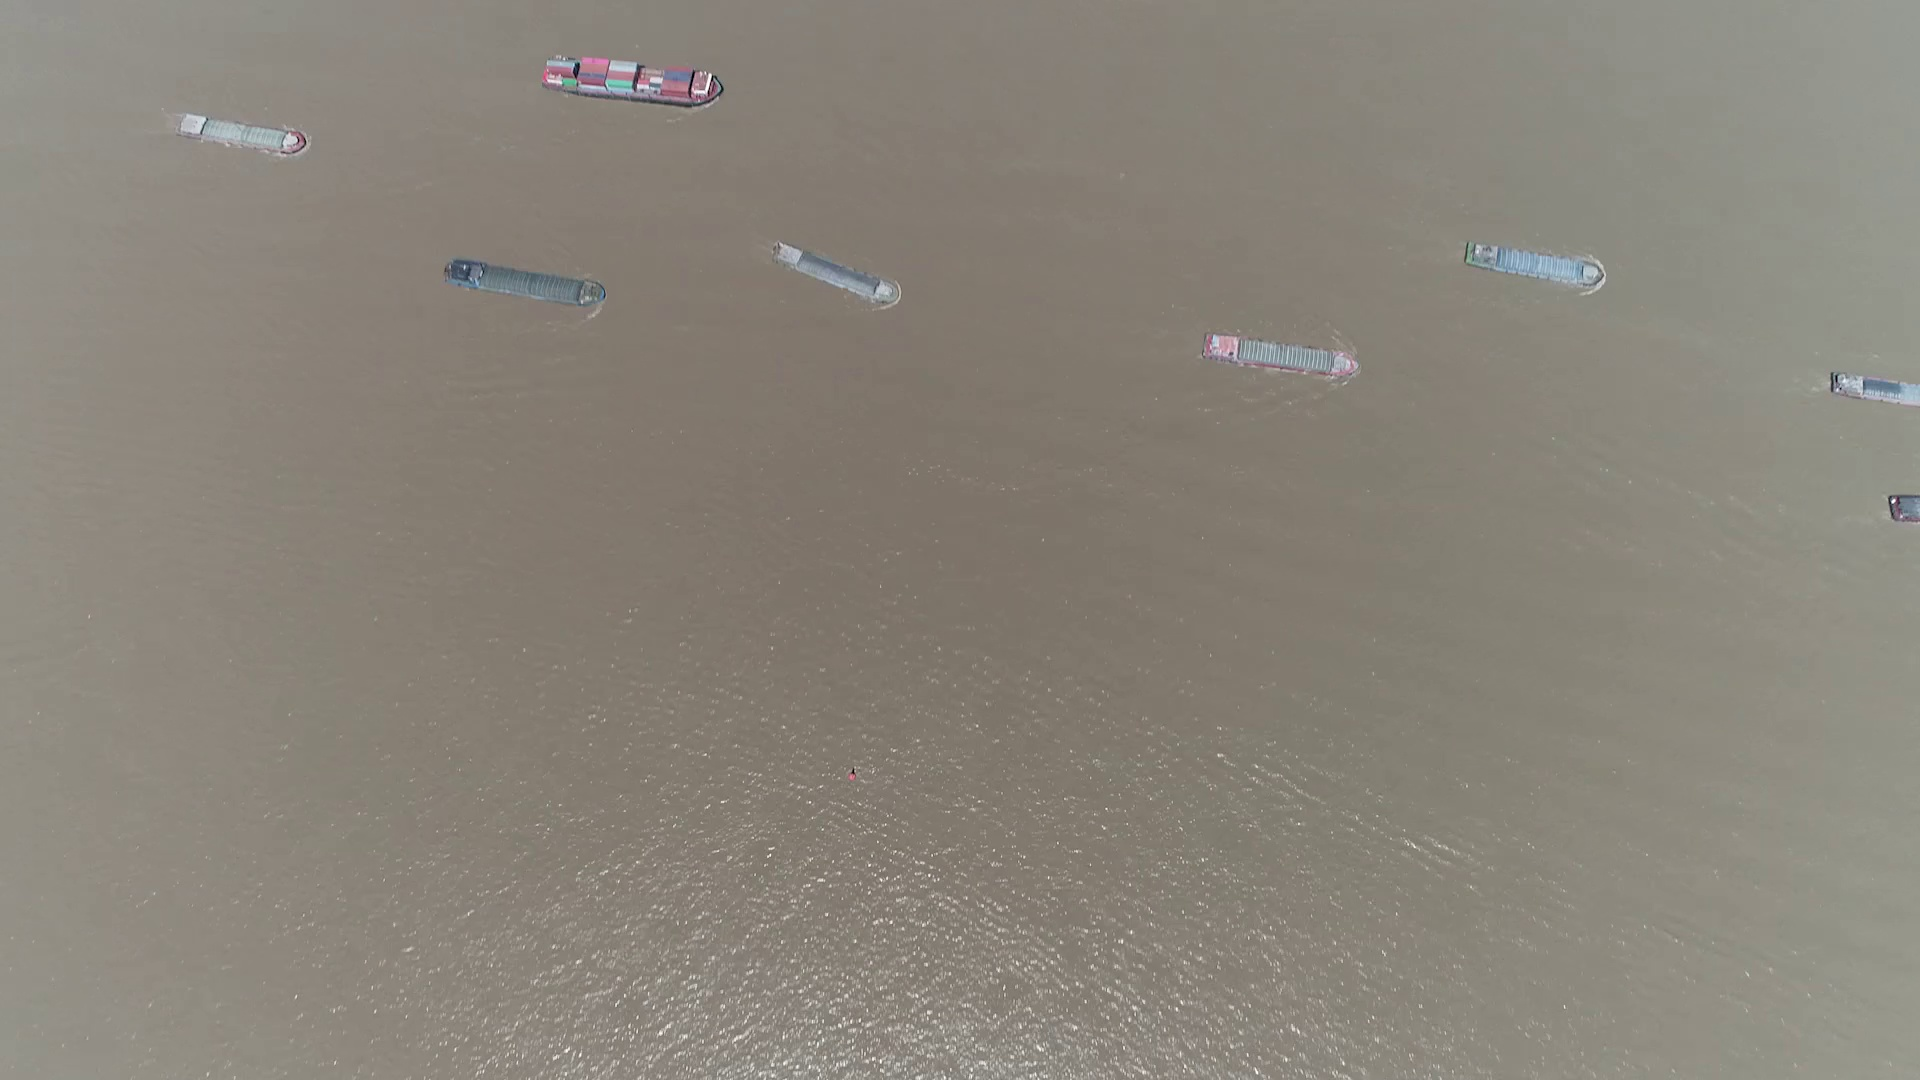ship: (537, 61, 719, 104), (444, 261, 604, 310), (770, 247, 897, 305), (1203, 336, 1353, 377), (1465, 247, 1602, 284), (174, 113, 306, 152), (1826, 375, 1916, 404), (1888, 495, 1919, 520)
